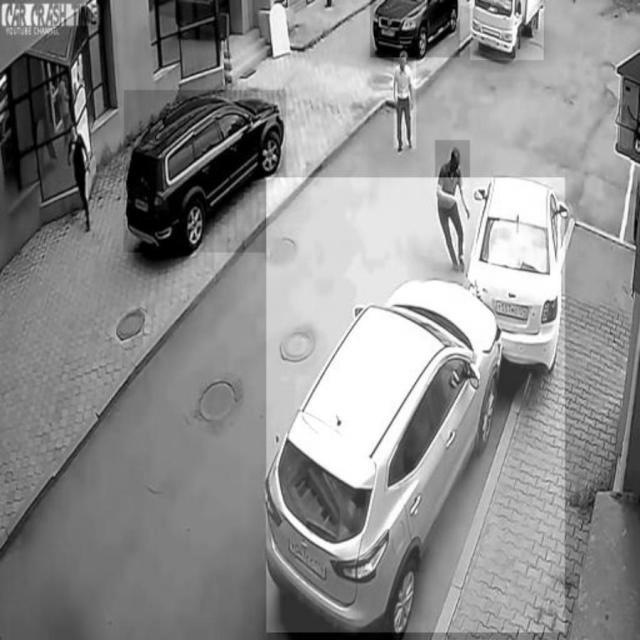accident: (266, 178, 564, 632)
person: (435, 140, 470, 268), (65, 120, 93, 233), (395, 44, 417, 148)
vehicle: (125, 90, 287, 254), (371, 0, 461, 57), (471, 0, 544, 60)
